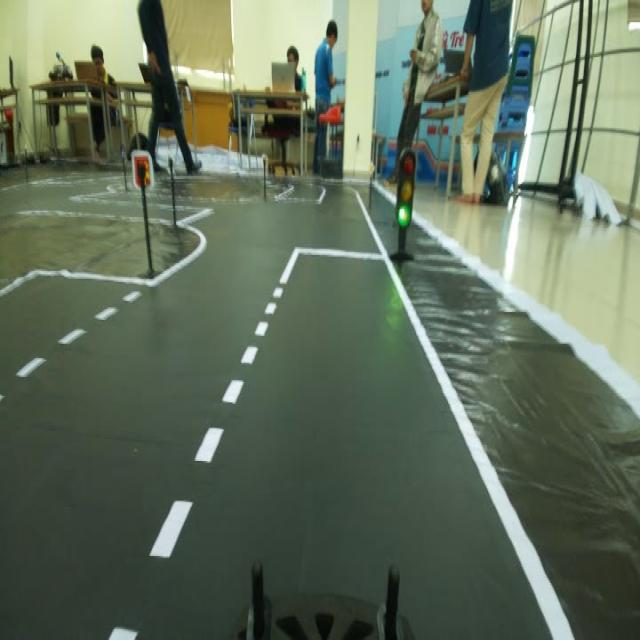trafficlight: (384, 146, 426, 272)
